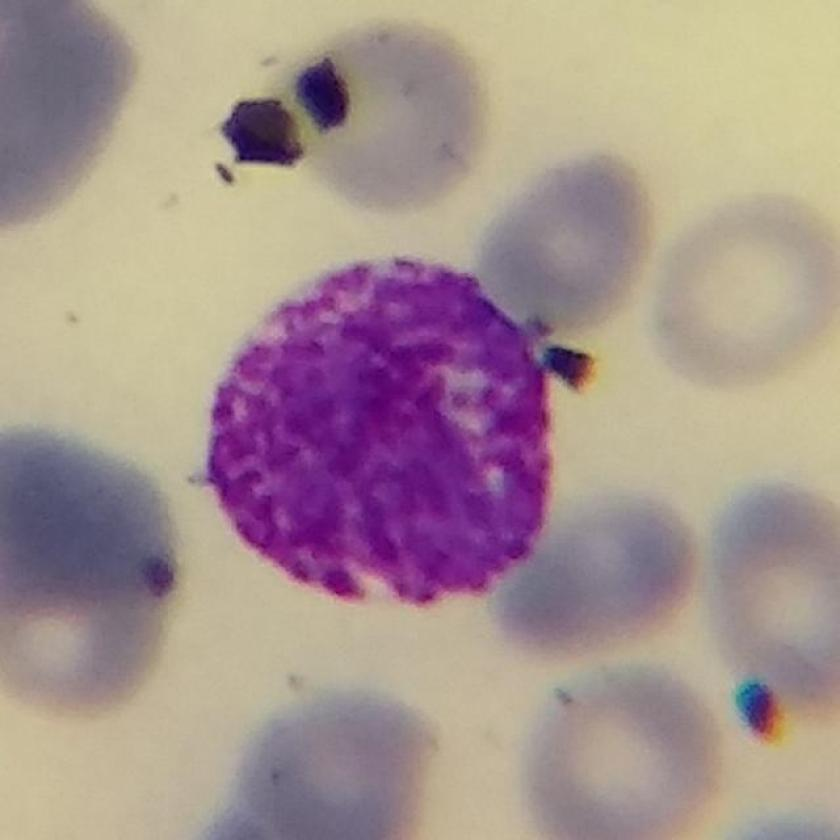basophil: (202, 251, 573, 613)
